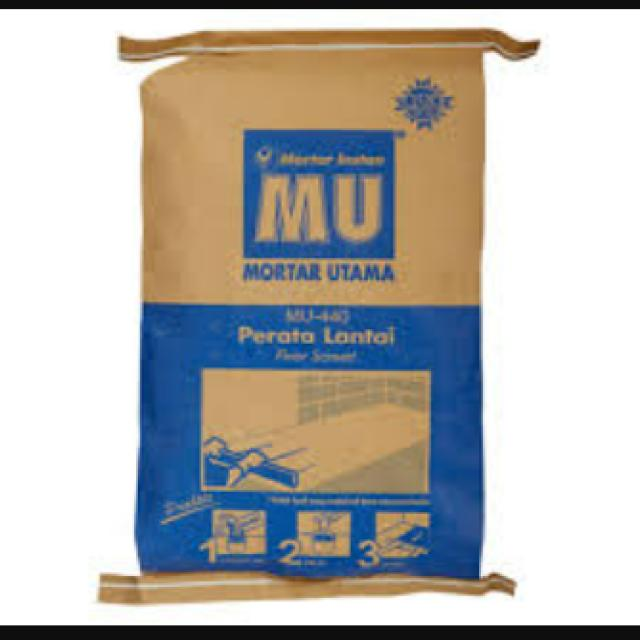KantongSemen: (98, 26, 540, 602)
